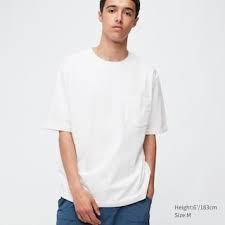Tshirt: (43, 46, 172, 210)
